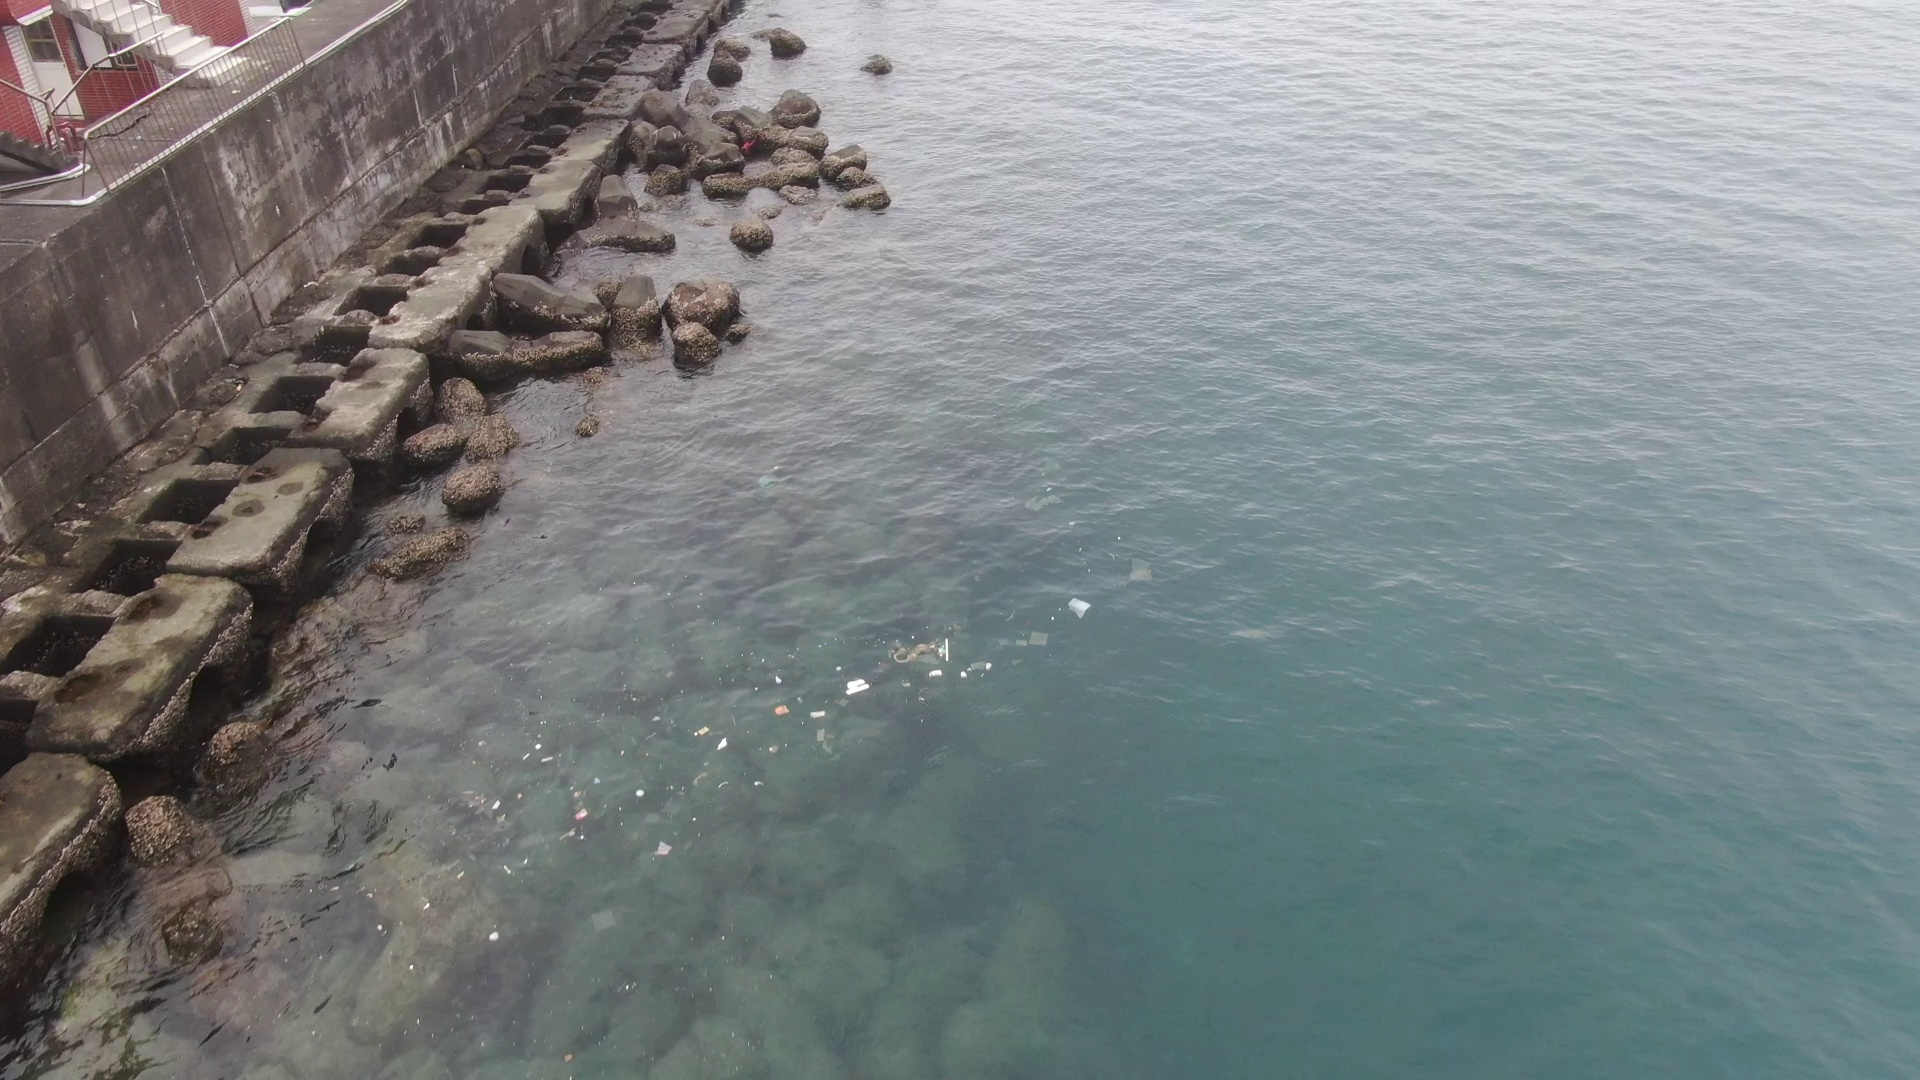garbage: (483, 583, 1117, 919)
